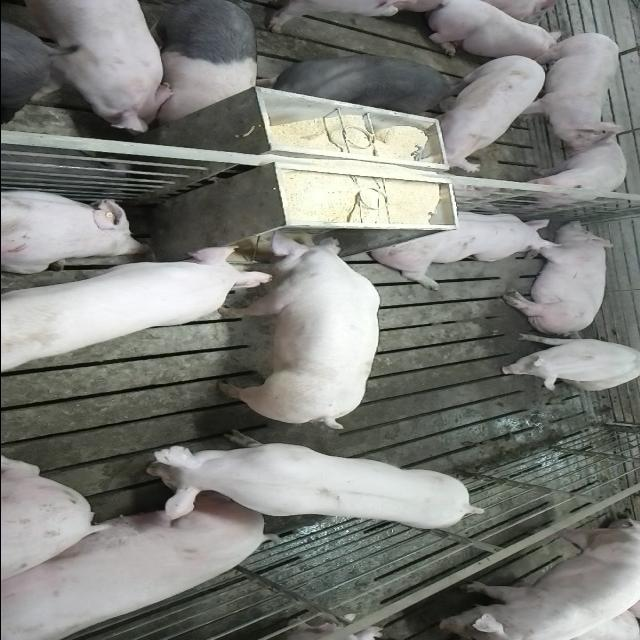Feeding: (7, 236, 277, 365), (211, 230, 379, 433)
Lateral_lying: (500, 222, 617, 338)
Sitting: (494, 334, 640, 390)
Standing: (140, 434, 490, 535), (1, 1, 178, 136), (436, 524, 640, 640), (421, 52, 547, 170), (138, 1, 256, 125), (266, 53, 452, 115), (508, 126, 624, 204)
Sternal_lying: (366, 208, 560, 286), (0, 185, 146, 272), (425, 0, 571, 60)
